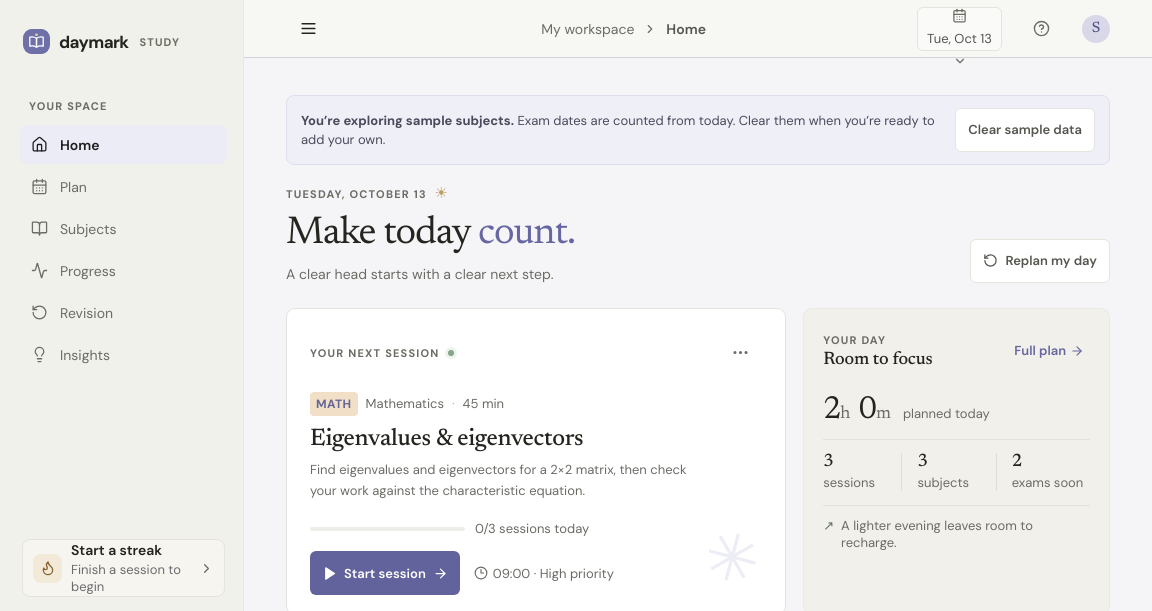
navigation › moves between pages and marks the current one
The width and height of the screenshot is (1152, 611).
Click the button "Plan" at (124, 186), box [20,167,227,206]
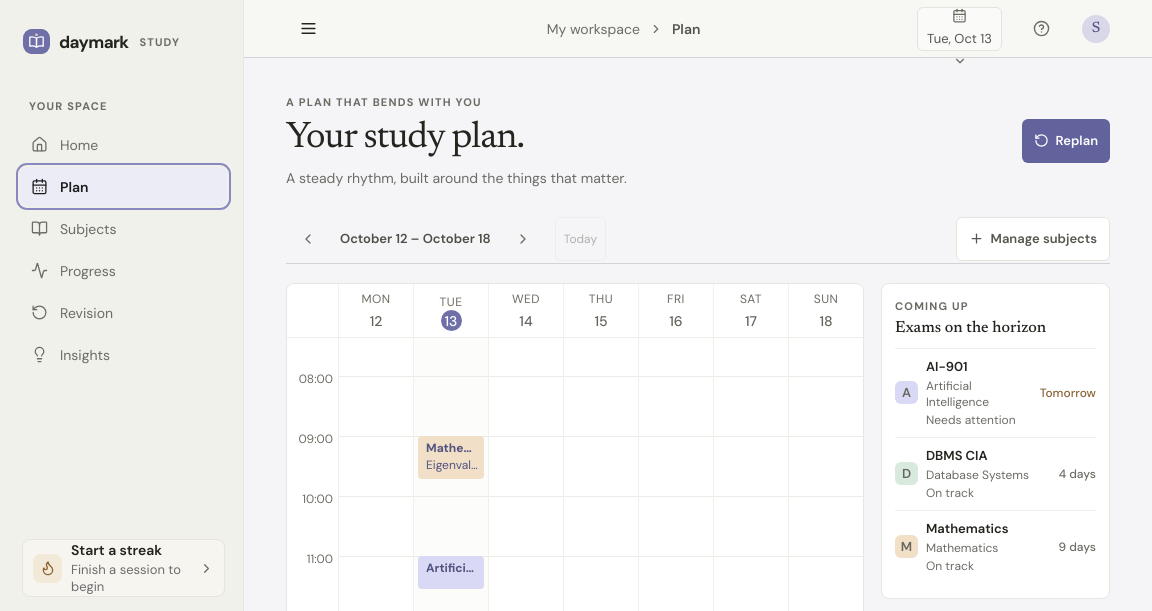
Expected: the heading "Your study plan." is shown, [286,120,524,157]
Click the button "Subjects" at (124, 228), box [20,209,227,248]
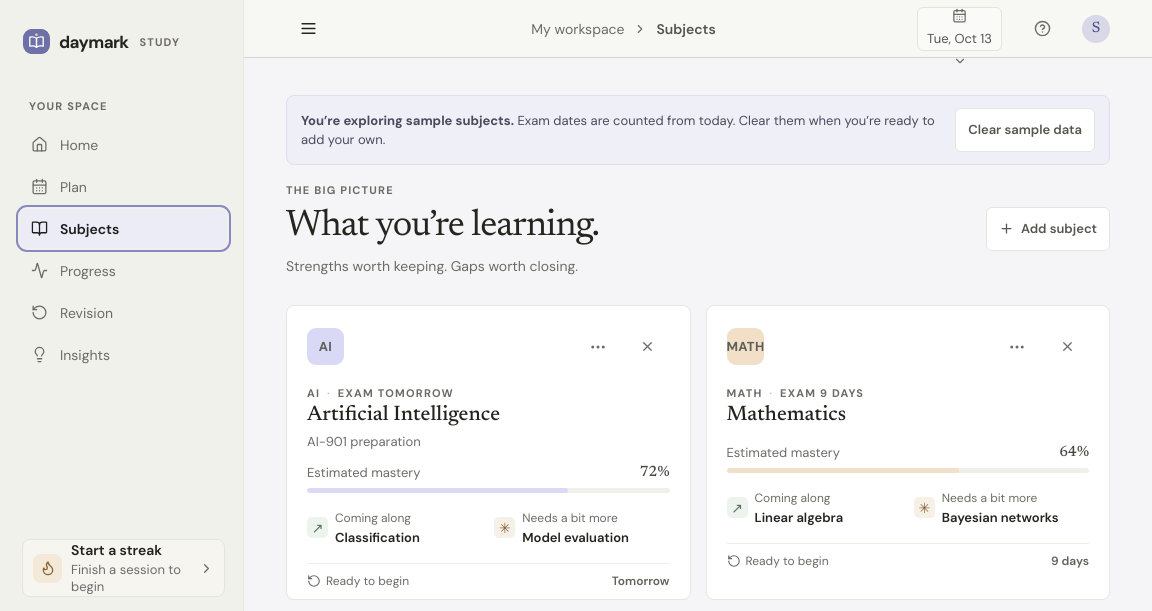
Expected: the heading "What you’re learning." is shown, [286,207,599,248]
Click the button "Progress" at (124, 270), box [20,251,227,290]
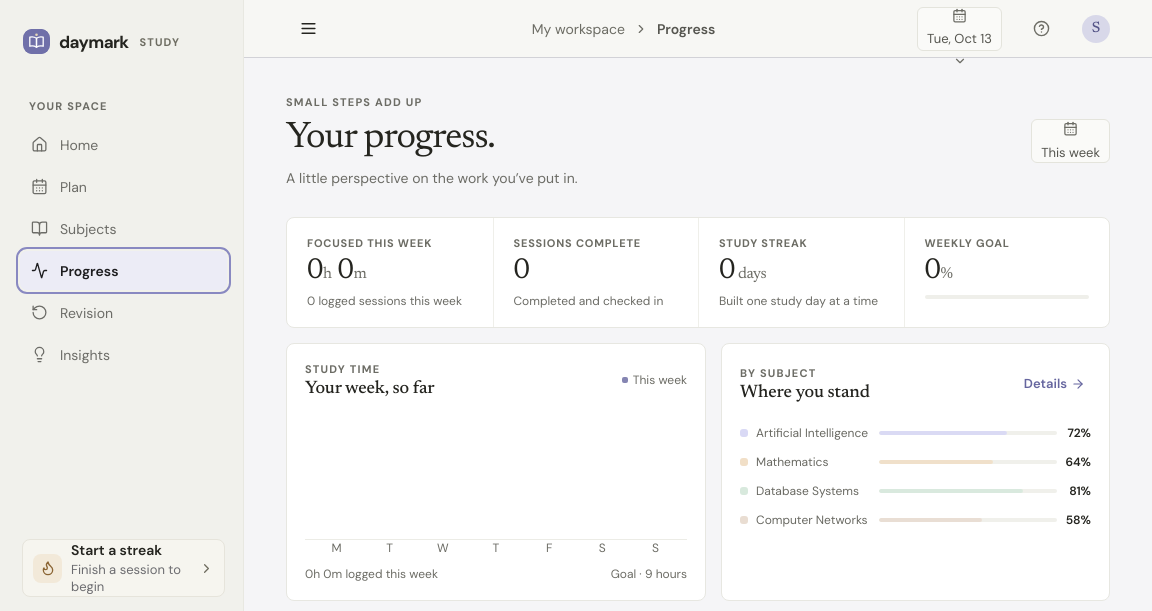
Expected: the heading "Your progress." is shown, [286,120,495,157]
Click the button "Revision" at (124, 312), box [20,293,227,332]
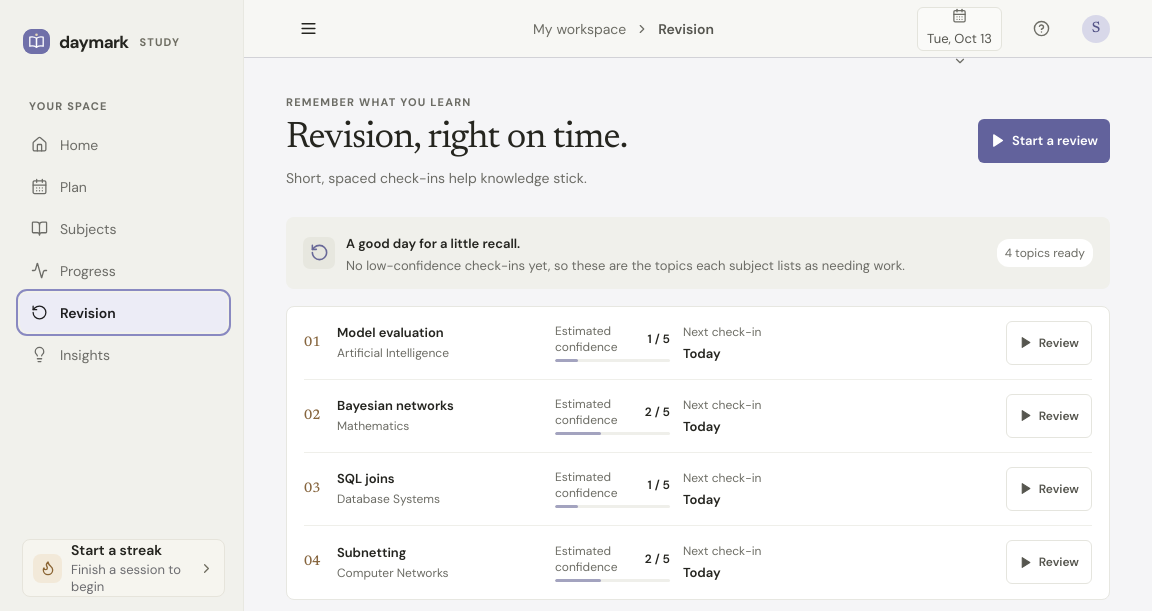
Expected: the heading "Revision, right on time." is shown, [286,119,627,160]
Click the button "Insights" at (124, 354), box [20,335,227,374]
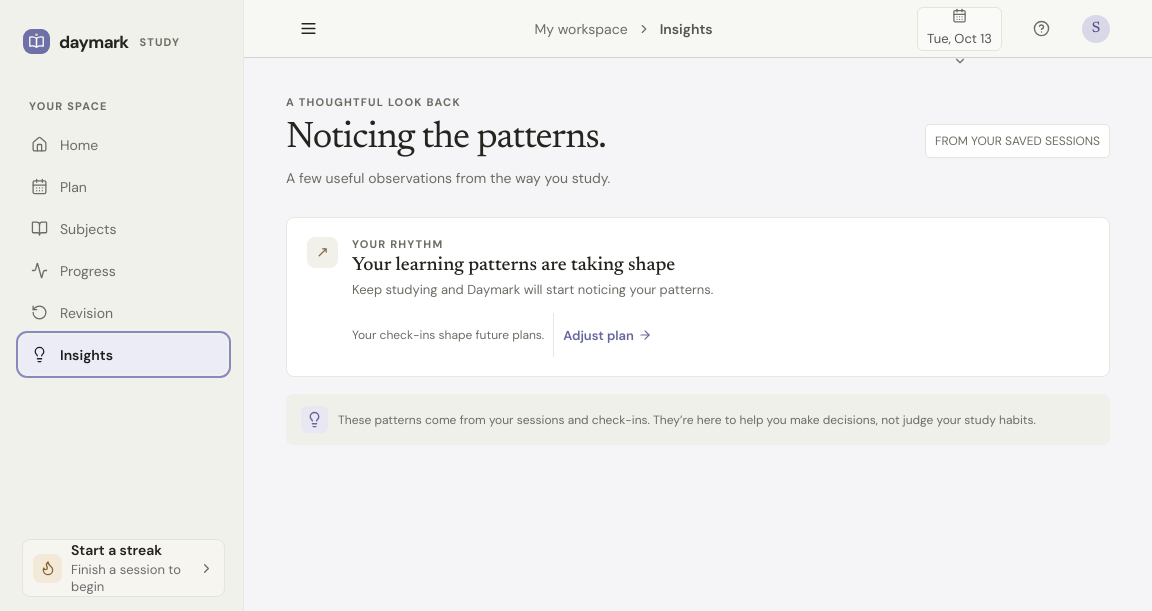
Expected: the heading "Noticing the patterns." is shown, [286,119,610,160]
